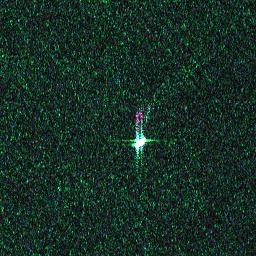ship: (131, 134, 148, 150)
